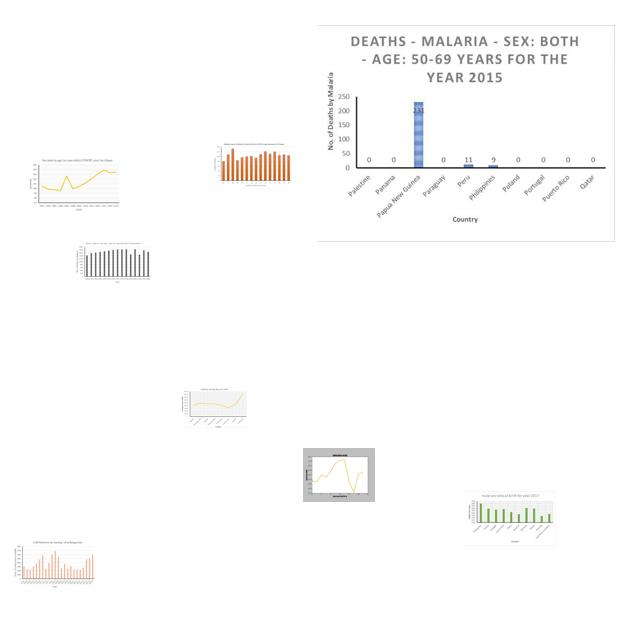Graph: (317, 25, 615, 242), (27, 157, 121, 213), (465, 491, 556, 546), (13, 540, 95, 589), (303, 448, 375, 502), (212, 141, 293, 189), (74, 241, 152, 284), (181, 388, 248, 428)
